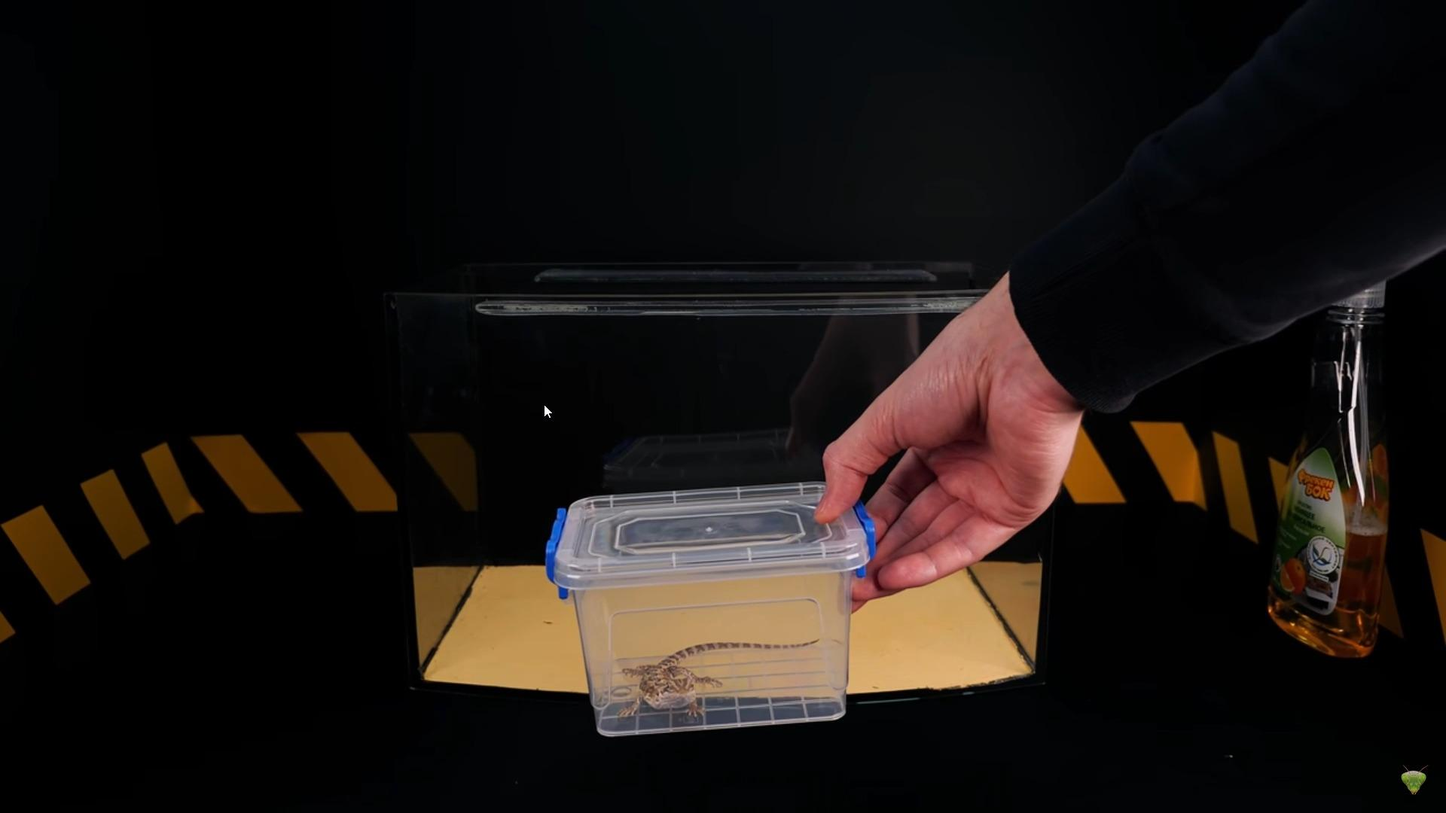lizard: (615, 633, 824, 722)
